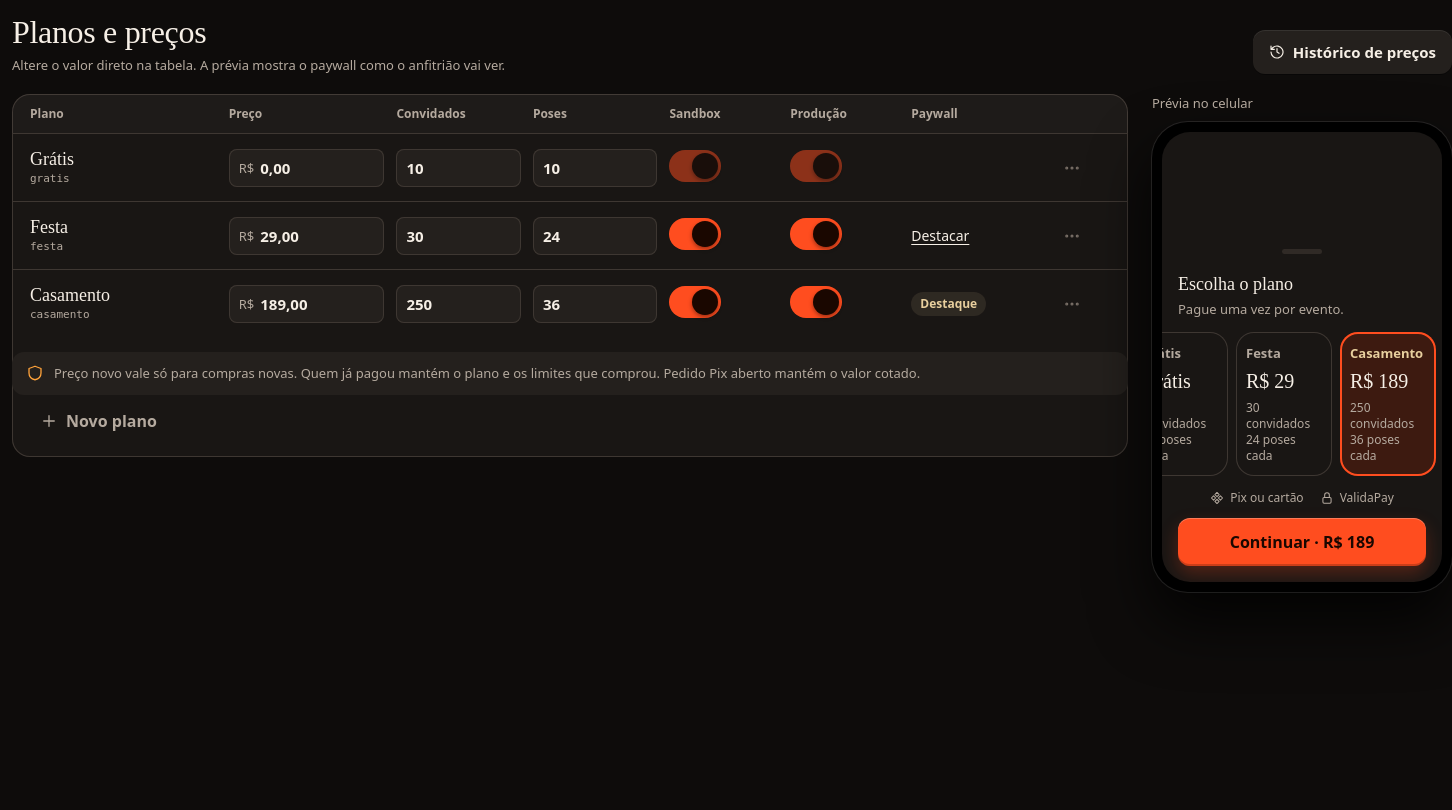
it: PricesEditor (M03/M04) › preço inválido volta ao valor anterior; limite inválido bloqueia a publicação
Replace the text in the field named "Preço Festa" with "abc" at (317, 236), box 260,226 -> 374,246
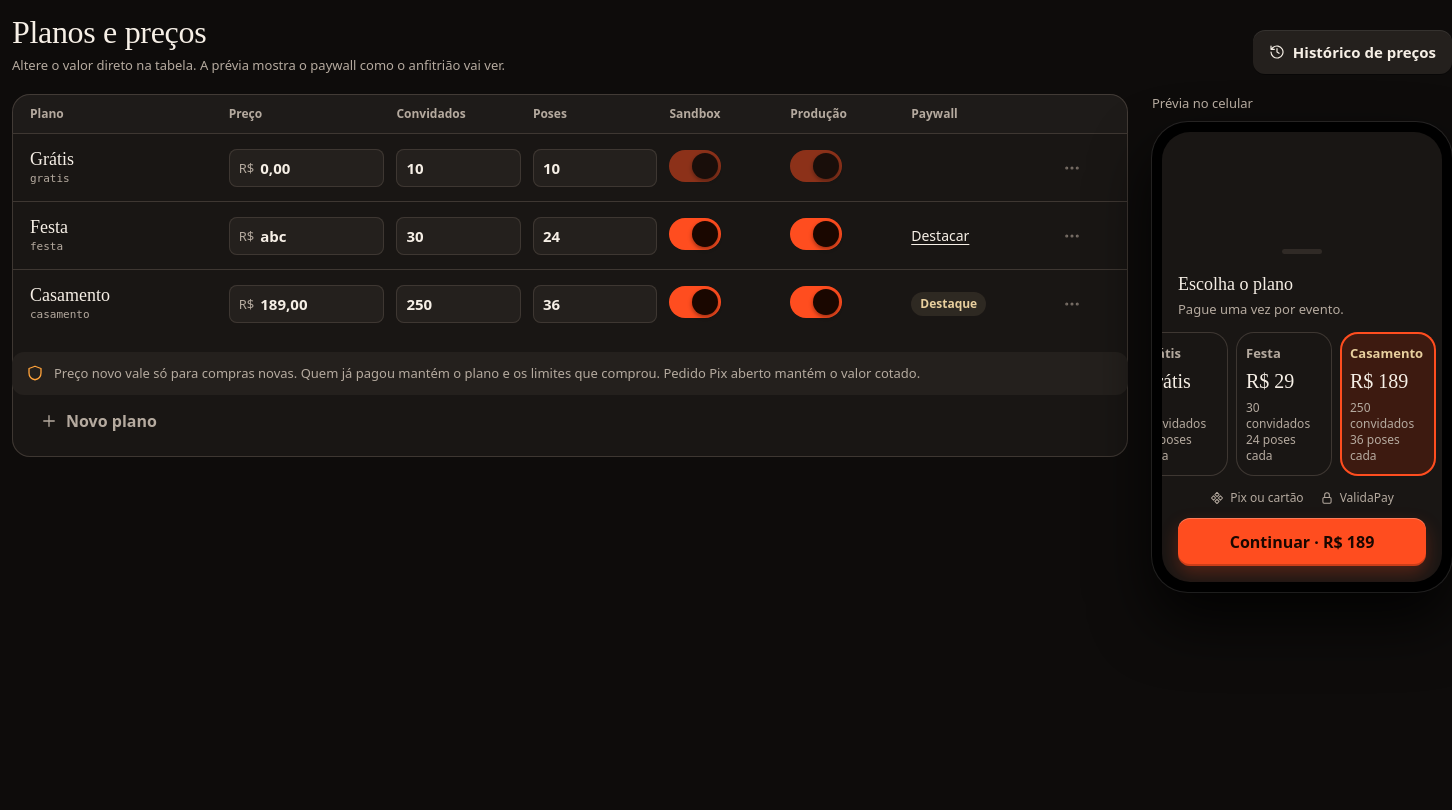
Leave the field named "Preço Festa", box 260,226 -> 374,246
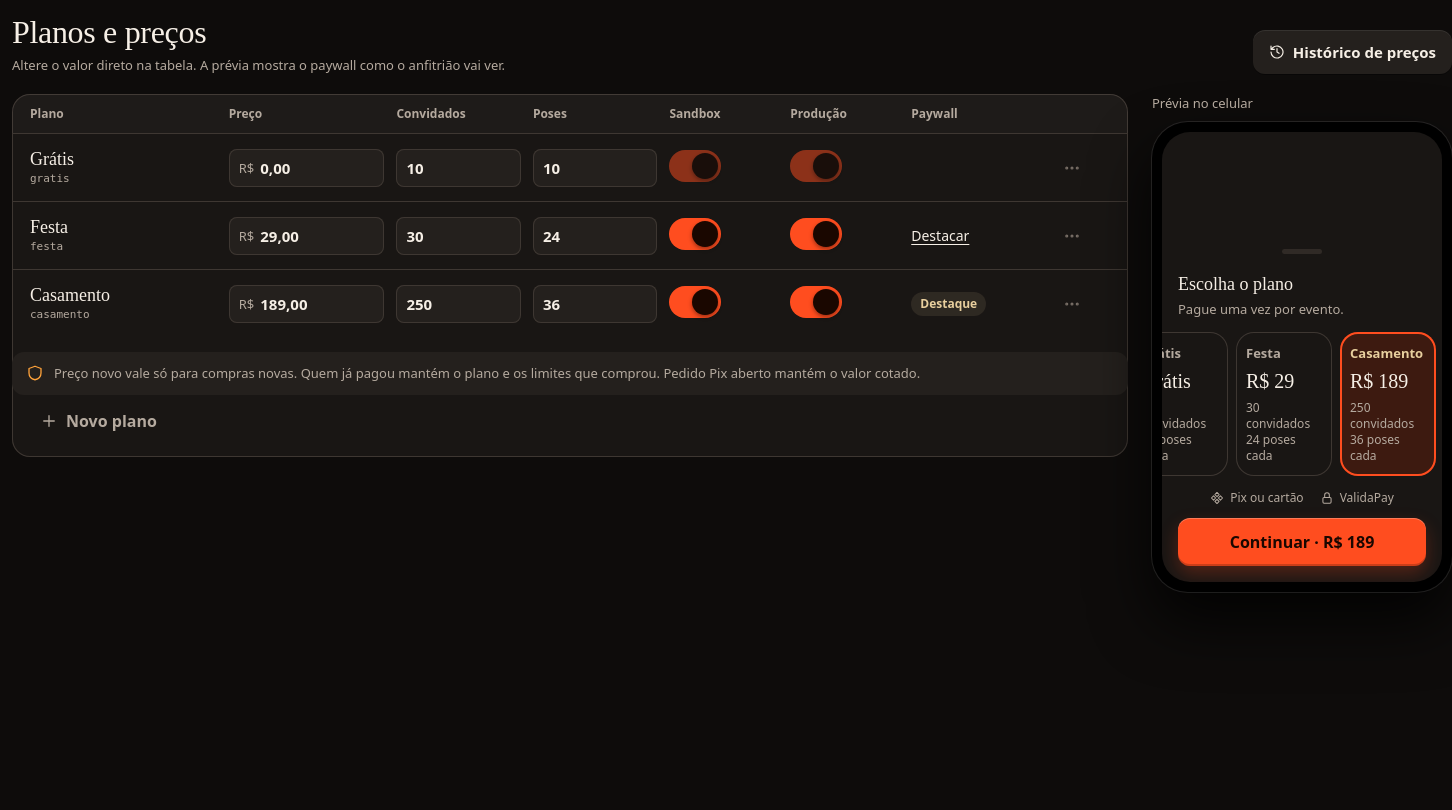
expect the field named "Preço Festa" holds "29,00": met, box 260,226 -> 374,246
Replace the text in the field named "Convidados Festa" with "5000" at (459, 236), box 406,226 -> 511,246
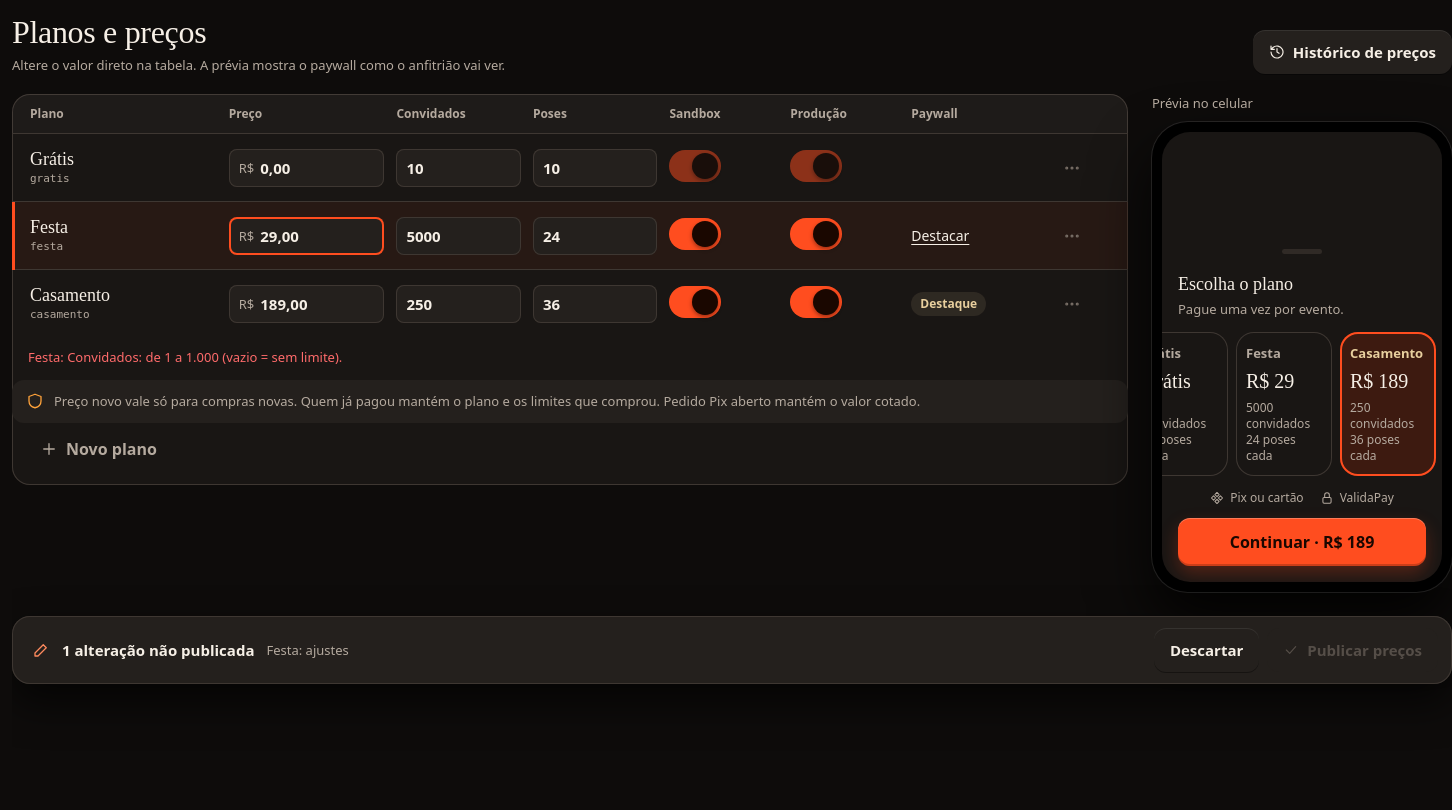
expect the message shows "Convidados": met, box 28,348 -> 342,366
expect the button "Publicar preços" is disabled: met, box 1267,628 -> 1438,672
